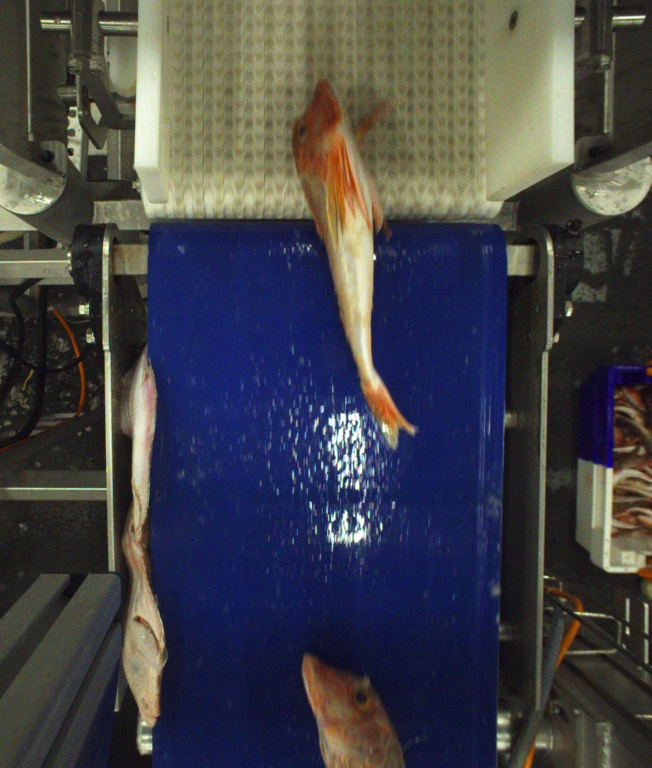GUU: (291, 78, 423, 447)
